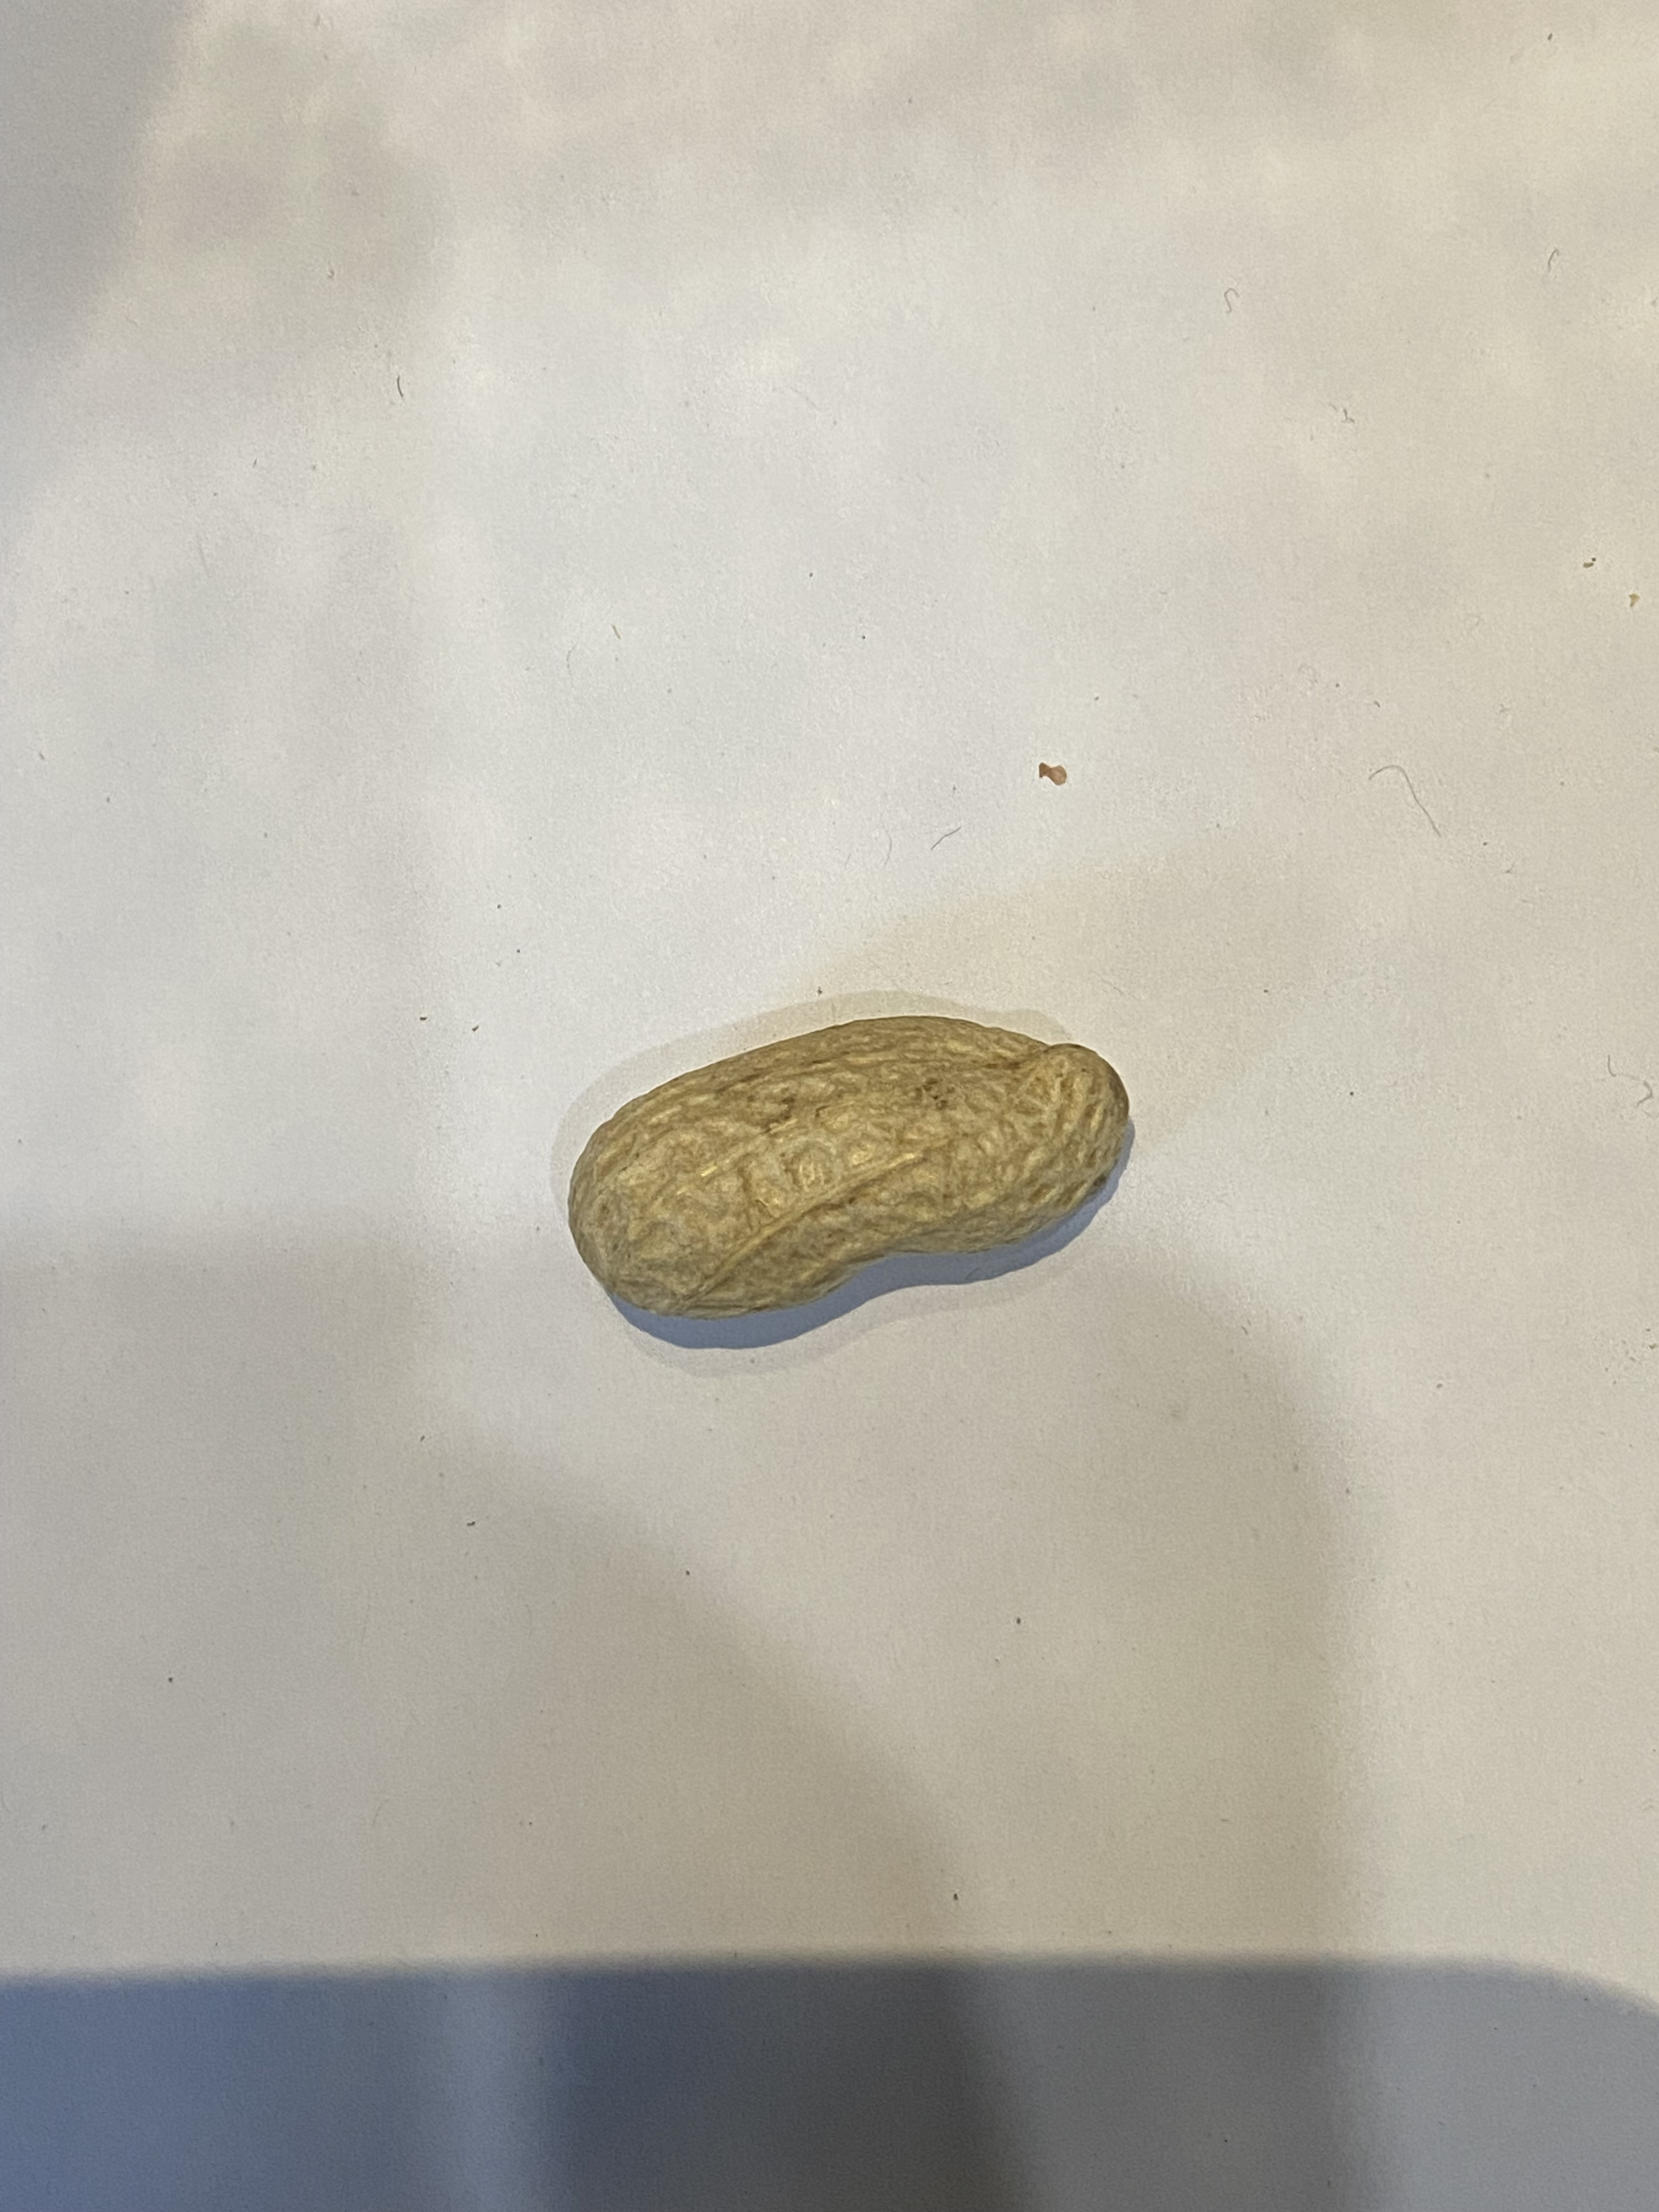kacang2: (498, 1007, 1183, 1325)
